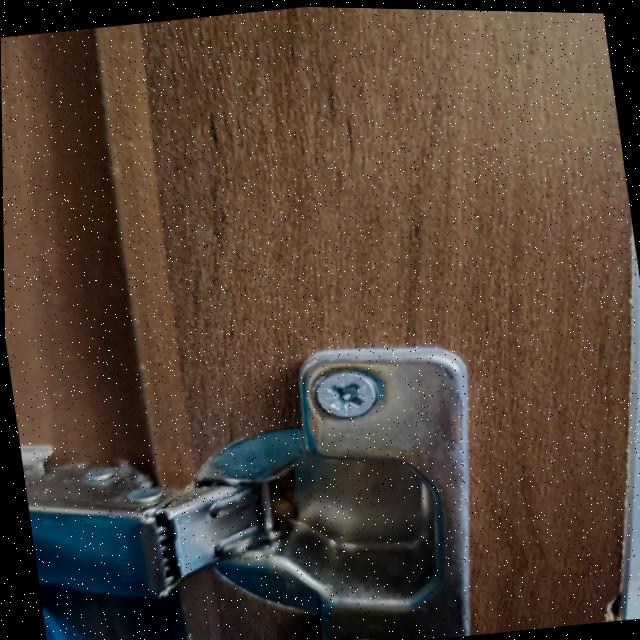Pozidriv: (312, 364, 384, 429)
